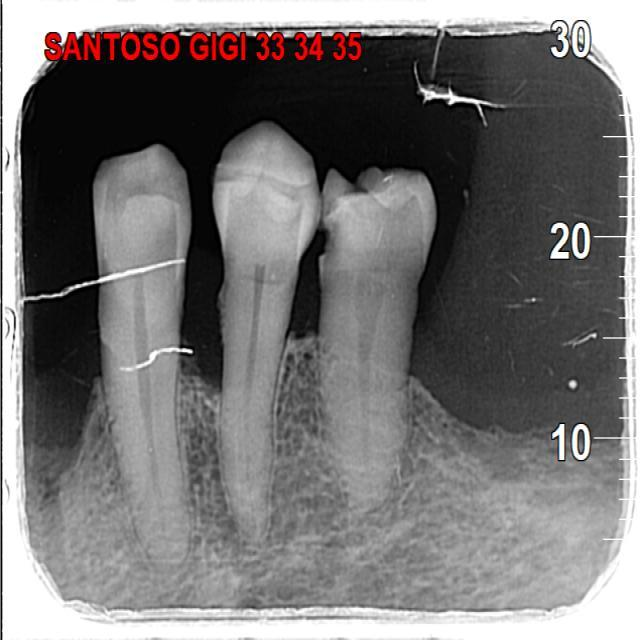individual-tooth-8tto: (212, 121, 316, 538), (319, 164, 435, 521), (95, 145, 188, 564)
